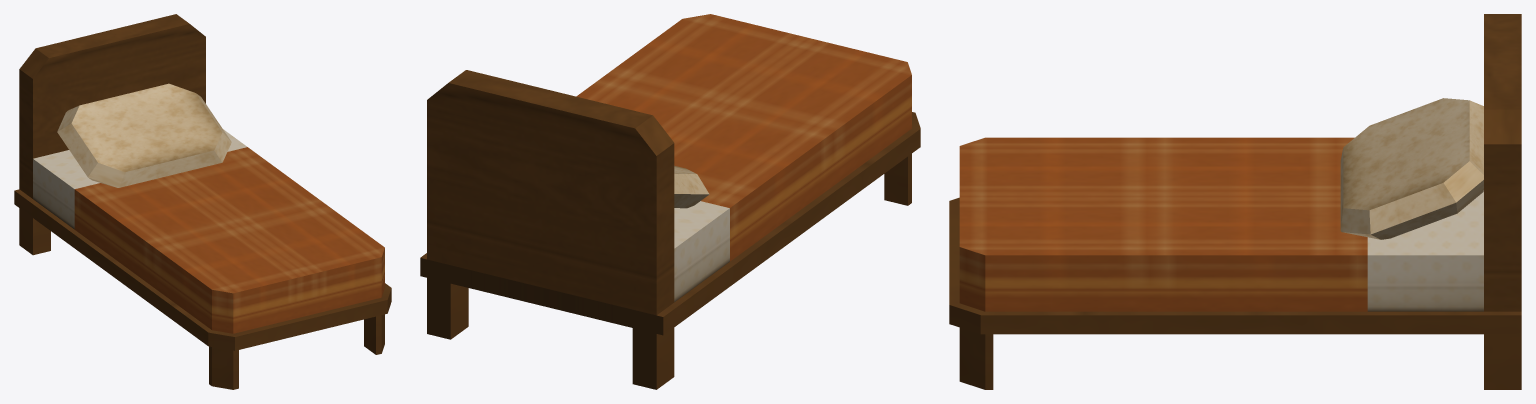
The model's file is Bed.fbx.
3 views of the same model, side by side, from view 1: azimuth 30°, elevation 25°; view 2: azimuth 150°, elevation 25°; view 3: azimuth 270°, elevation 25° (orthographic). The views are drawn at different scales.
Parts seen in each view (by area): view 1: Bed, Pillow; view 2: Bed, Pillow; view 3: Bed, Pillow.
Part boxes in pixels (x1,y1,x2,y2): Bed: (14, 14, 391, 389); Pillow: (57, 83, 231, 187); Bed: (420, 14, 920, 389); Pillow: (674, 165, 709, 208); Bed: (949, 14, 1521, 389); Pillow: (1340, 98, 1483, 239).
Bounding box in the file's own units: 294 × 571 × 297.
